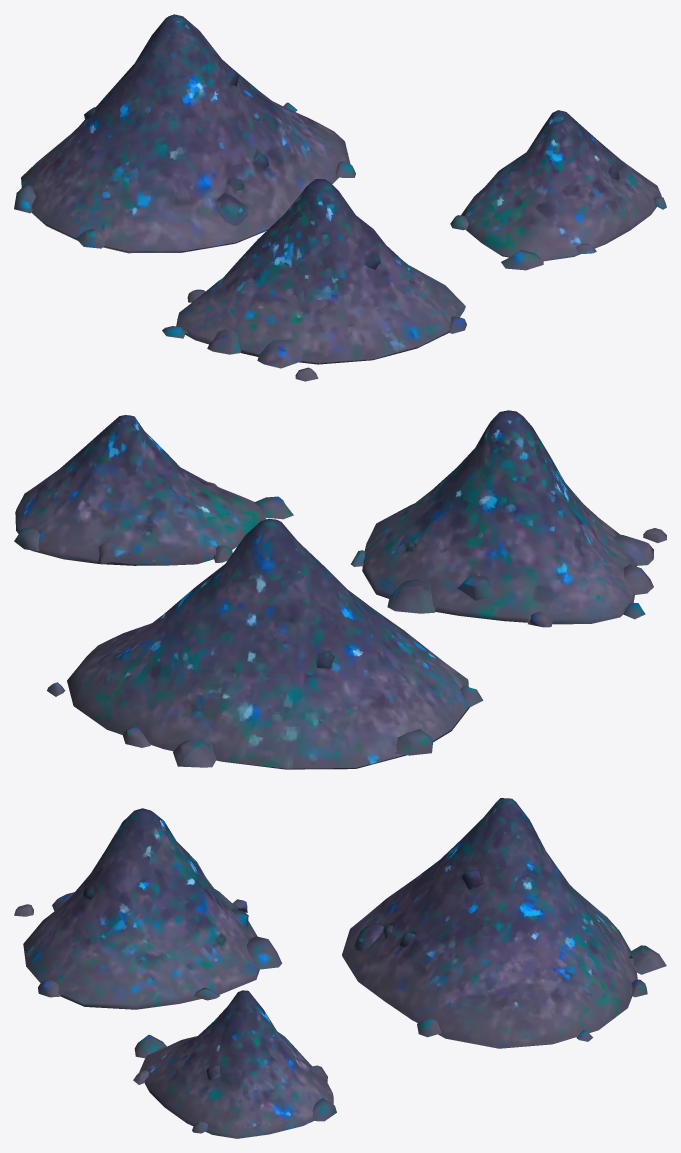
3 views of the same model, one above another, from view 1: azimuth 30°, elevation 25°; view 2: azimuth 150°, elevation 25°; view 3: azimuth 270°, elevation 25° (orthographic). The views are drawn at different scales.
Parts seen in each view (by area): view 1: SM_Ground_Rune_Essence_LOD0; view 2: SM_Ground_Rune_Essence_LOD0; view 3: SM_Ground_Rune_Essence_LOD0.
Part boxes in pixels (x1,y1,x2,y2): SM_Ground_Rune_Essence_LOD0: [14, 14, 666, 381]; SM_Ground_Rune_Essence_LOD0: [14, 410, 666, 769]; SM_Ground_Rune_Essence_LOD0: [14, 798, 666, 1138].
Size of the model in its own units: 0.3994 by 0.1211 by 0.4248.
1 material, 1 textured.
